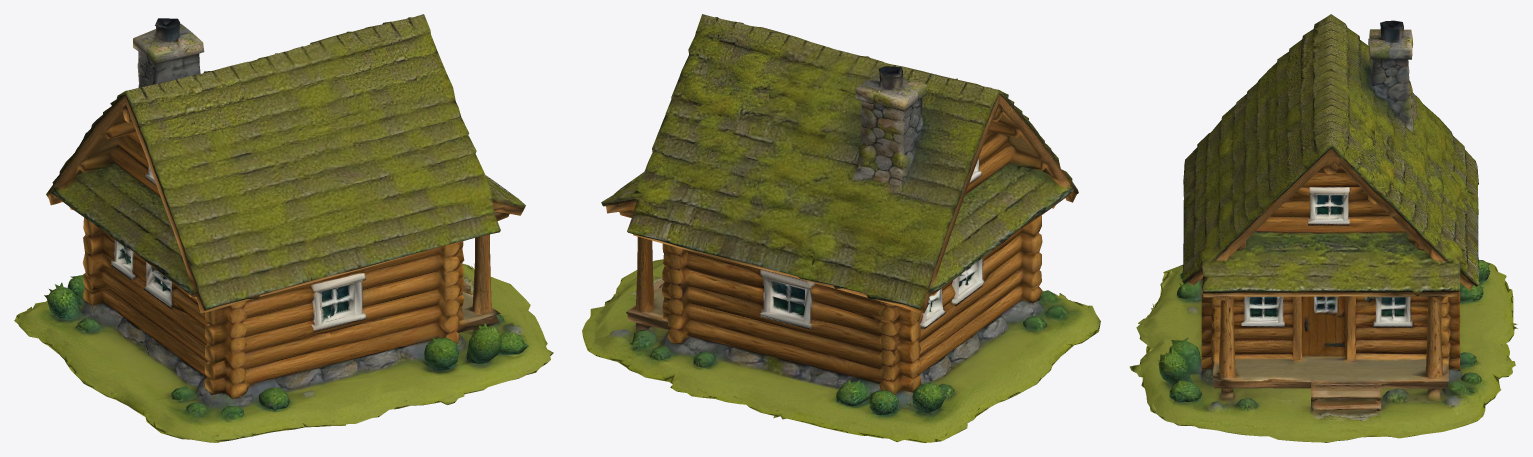
Rendered from cabin.glb.
3 views of the same model, side by side, from view 1: azimuth 30°, elevation 25°; view 2: azimuth 150°, elevation 25°; view 3: azimuth 270°, elevation 25° (orthographic). The views are drawn at different scales.
Visible parts, largest first — view 1: tripo_node_54339aea-978d-41e9-8162-4dbd5de89bb5; view 2: tripo_node_54339aea-978d-41e9-8162-4dbd5de89bb5; view 3: tripo_node_54339aea-978d-41e9-8162-4dbd5de89bb5.
Part boxes in pixels (x1=…): tripo_node_54339aea-978d-41e9-8162-4dbd5de89bb5: x1=14, y1=14, x2=553, y2=442; tripo_node_54339aea-978d-41e9-8162-4dbd5de89bb5: x1=582, y1=14, x2=1100, y2=442; tripo_node_54339aea-978d-41e9-8162-4dbd5de89bb5: x1=1129, y1=14, x2=1517, y2=442.
Size of the model in its own units: 1 by 0.7118 by 0.8768.
Materials: 1 (1 with a texture image).
